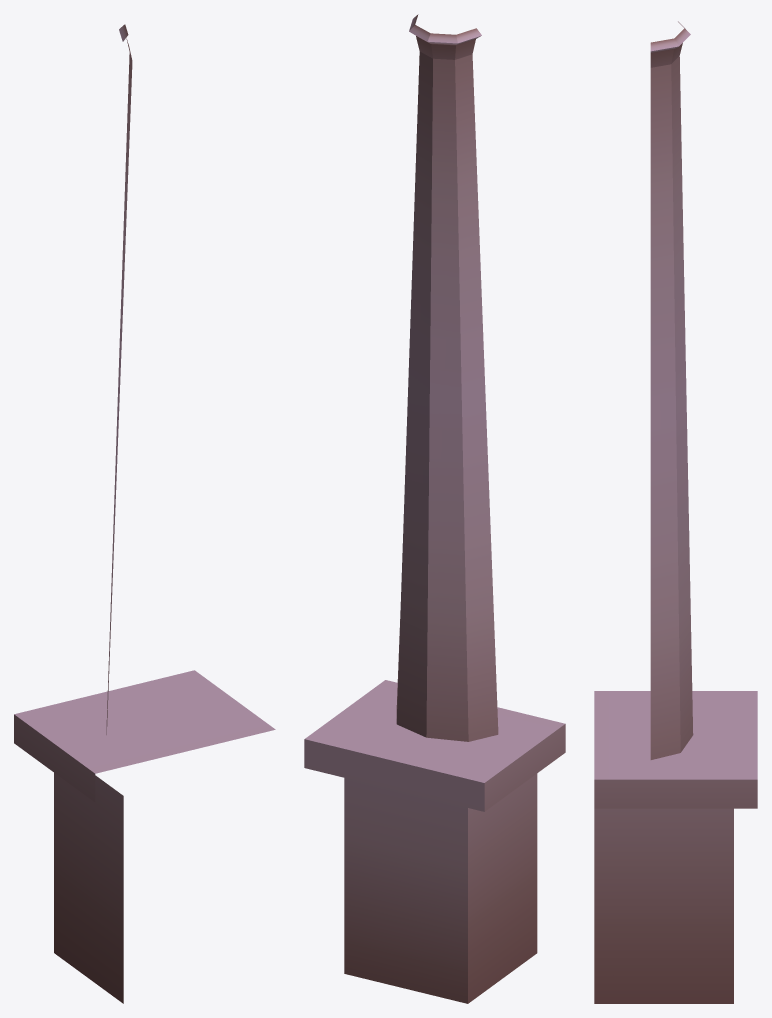
The model's file is 1.100_SanFrancisco_pillar.glb.
3 views of the same model, side by side, from view 1: azimuth 30°, elevation 25°; view 2: azimuth 150°, elevation 25°; view 3: azimuth 270°, elevation 25° (orthographic).
Parts seen in each view (by area): view 1: 1.100_SanFrancisco_pillar; view 2: 1.100_SanFrancisco_pillar; view 3: 1.100_SanFrancisco_pillar.
Boxes of the visible parts, x1=… form: 1.100_SanFrancisco_pillar: x1=14, y1=24, x2=275, y2=1003; 1.100_SanFrancisco_pillar: x1=304, y1=14, x2=565, y2=1003; 1.100_SanFrancisco_pillar: x1=594, y1=21, x2=757, y2=1003.
Bounding box in the file's own units: 17.56 × 87.38 × 13.69.
Materials: 1 (1 with a texture image).
